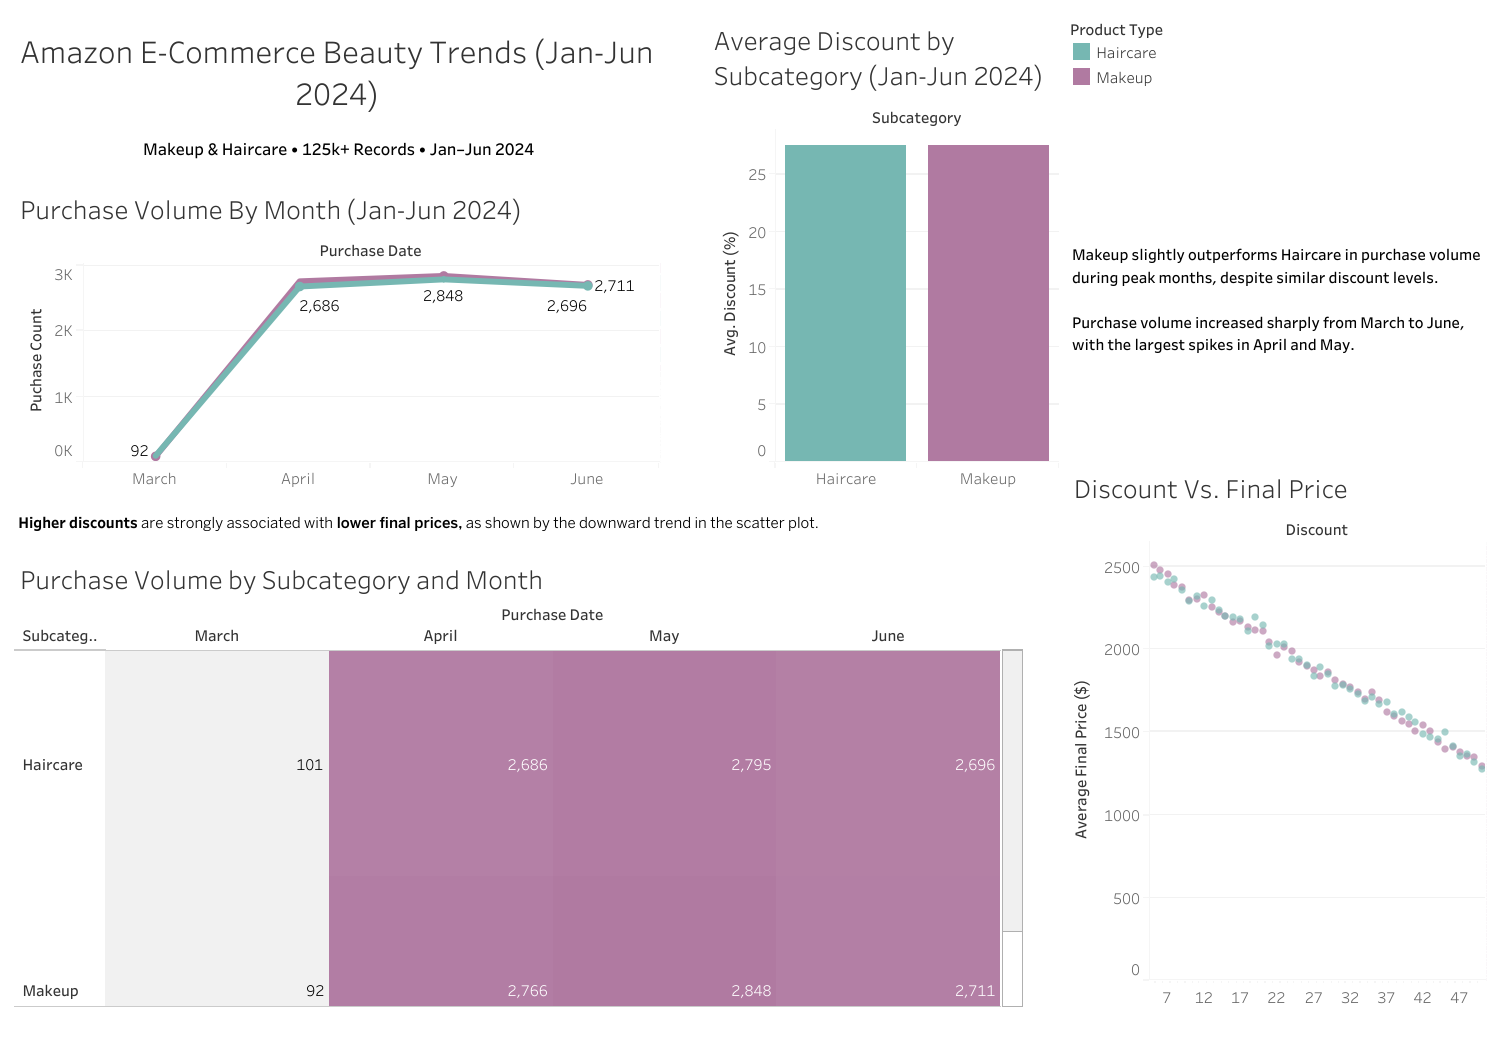

Layout of this report page (visuals, bound fields, positions):
{"tool":"tableau","page":{"name":"Amazon E-Commerce Beauty Trends (Jan-Jun 2024)","canvas":[1200,850],"ordinal":0},"visuals":[{"type":"title","box":[8,8,522.6,97]},{"type":"blank","box":[530.6,8,32,387]},{"type":"worksheet","title":"Average Discount by Subcategory","mark":"Bar","rows":["discount"],"cols":["subcategory"],"box":[562.6,8,288.3,387]},{"type":"legend","title":"Purchase Volume Over Time","param":"[federated.0u4w8rw17l0qq81daowb00zggv4k].[none:subcategory:nk]","box":[851,8,341,103]},{"type":"text","box":[8,105,522.6,32]},{"type":"text","box":[851,111,341,255]},{"type":"worksheet","title":"Purchase Volume Over Time","mark":"Line","rows":["purchase_date"],"cols":["purchase_date"],"box":[8,143,522.6,252]},{"type":"worksheet","title":"Discount Vs. Final Price","mark":"Circle","rows":["final_price"],"cols":["discount"],"box":[851,366,341,444]},{"type":"text","box":[8,395,843,44.2]},{"type":"worksheet","title":"Highlight Table - Subcategory By Month","mark":"Square","rows":["subcategory"],"cols":["purchase_date"],"box":[8,439.2,827.7,370.8]},{"type":"blank","box":[8,810,1184,32]}]}

Visuals, with their boxes in screenshot pixels (x1, y1, x2, y2), scaled from the page's 1200x850 canvas onto the 1499x1061 screenshot:
title: x1=10, y1=10, x2=663, y2=131
blank: x1=663, y1=10, x2=703, y2=493
"Average Discount by Subcategory" worksheet (Bar marks): x1=703, y1=10, x2=1063, y2=493
"Purchase Volume Over Time" legend: x1=1063, y1=10, x2=1489, y2=139
text: x1=10, y1=131, x2=663, y2=171
text: x1=1063, y1=139, x2=1489, y2=457
"Purchase Volume Over Time" worksheet (Line marks): x1=10, y1=178, x2=663, y2=493
"Discount Vs. Final Price" worksheet (Circle marks): x1=1063, y1=457, x2=1489, y2=1011
text: x1=10, y1=493, x2=1063, y2=548
"Highlight Table - Subcategory By Month" worksheet (Square marks): x1=10, y1=548, x2=1044, y2=1011
blank: x1=10, y1=1011, x2=1489, y2=1051
